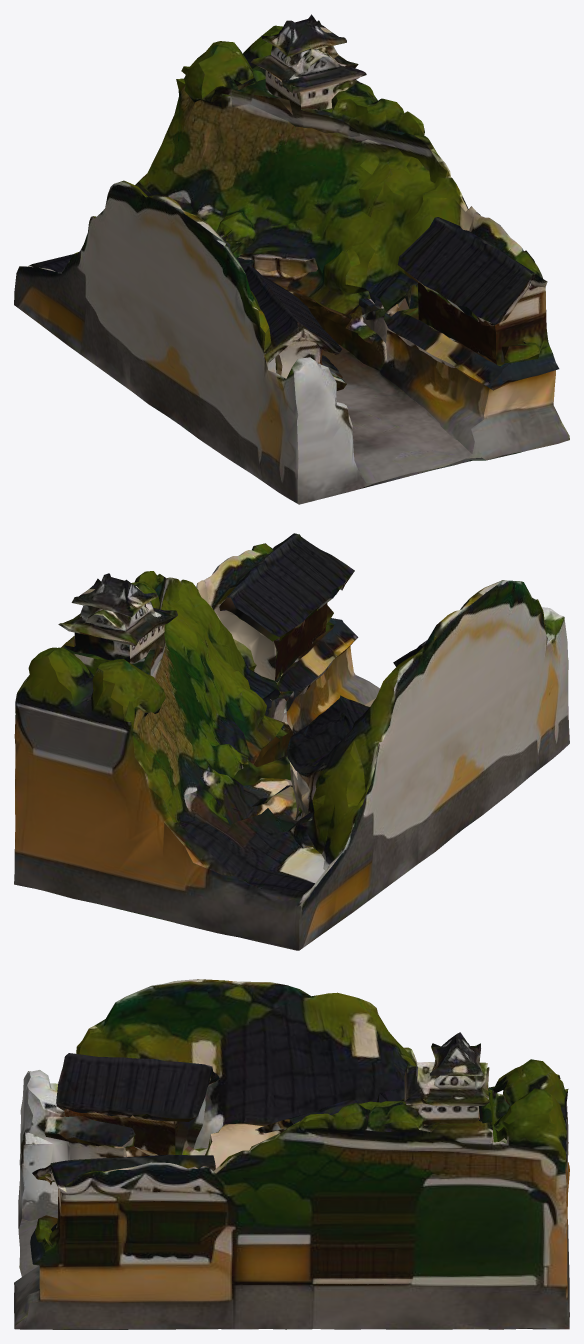
File: kitsuki-castle-town.glb
The picture shows the model from 3 angles, top to bottom: view 1: azimuth 30°, elevation 25°; view 2: azimuth 150°, elevation 25°; view 3: azimuth 270°, elevation 25°; orthographic projection. The views are drawn at different scales.
Visible parts, largest first — view 1: logan-textured.obj; view 2: logan-textured.obj; view 3: logan-textured.obj.
Boxes of the visible parts, <box> form: logan-textured.obj: <box>14,14,569,504</box>; logan-textured.obj: <box>14,533,569,950</box>; logan-textured.obj: <box>14,979,569,1329</box>.
Size of the model in its own units: 0.5829 by 0.5361 by 1.
Materials: 1 (1 with a texture image).
